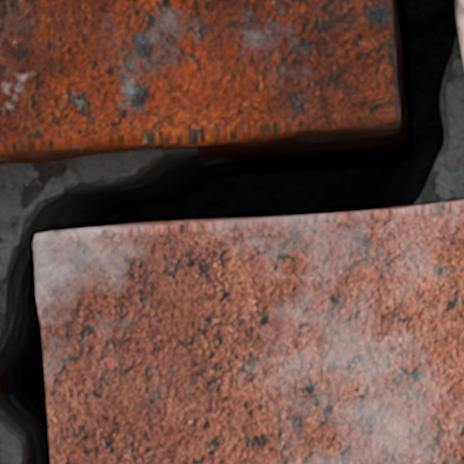brick: (34, 200, 463, 463), (0, 0, 398, 163), (455, 0, 463, 63)
crack: (0, 0, 462, 463)
